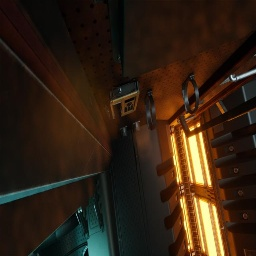EmergencyPhone ,: (104, 79, 140, 125)
